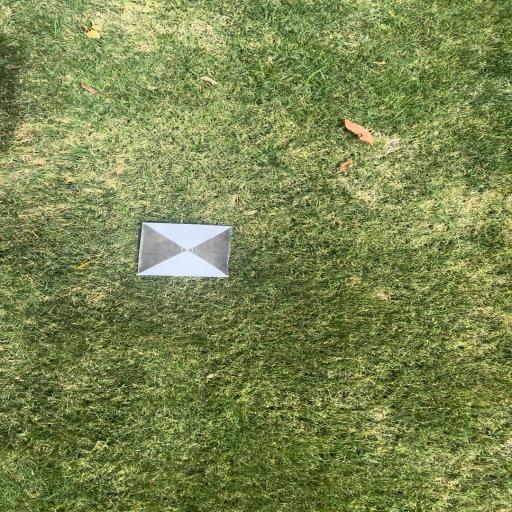target: (142, 224, 229, 276)
